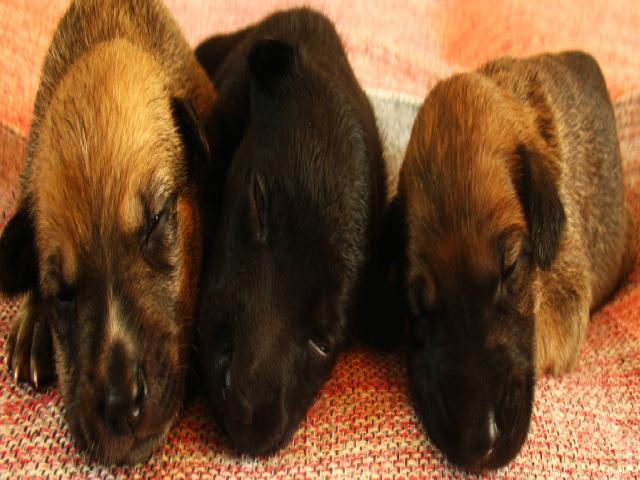Dog: (385, 48, 635, 474), (0, 0, 220, 479), (192, 3, 395, 458)
